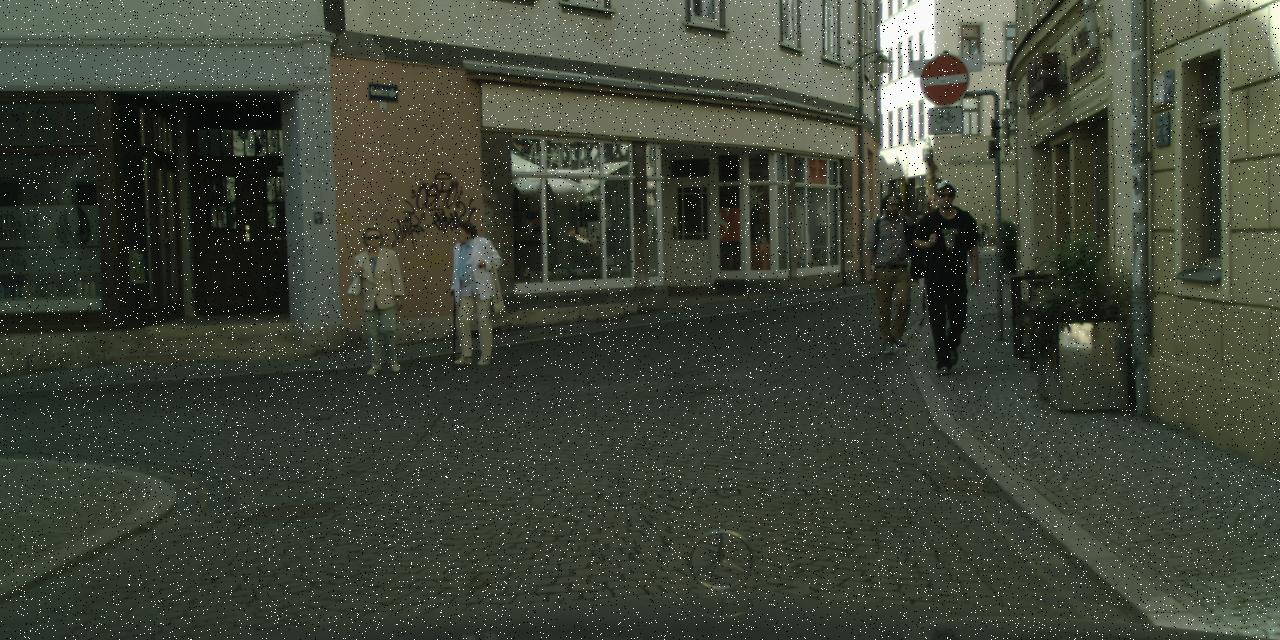ped: (908, 179, 986, 370), (862, 192, 926, 349), (349, 226, 409, 371), (439, 220, 498, 364)
